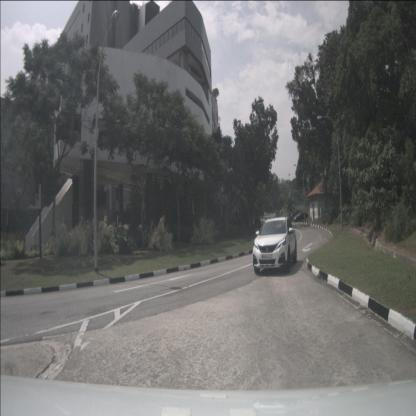vehicle-car: (252, 216, 297, 274), (293, 212, 309, 222), (290, 210, 302, 218)
